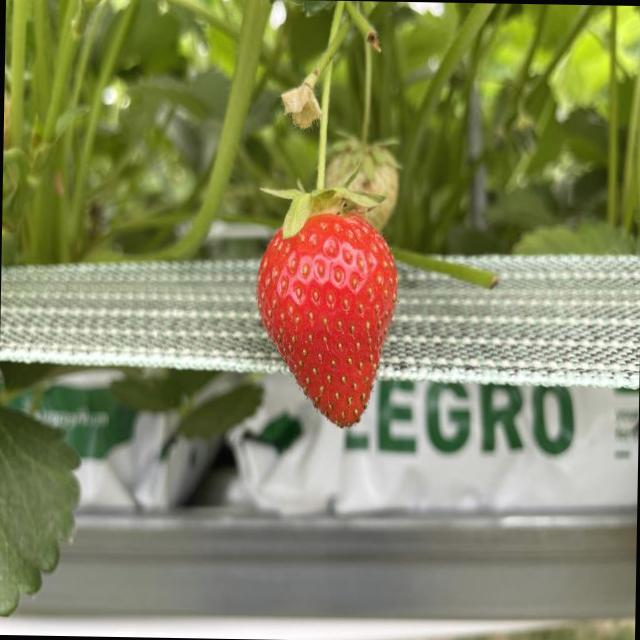stem: (264, 55, 381, 238), (327, 0, 344, 54)
strawberryR: (256, 212, 396, 423)
